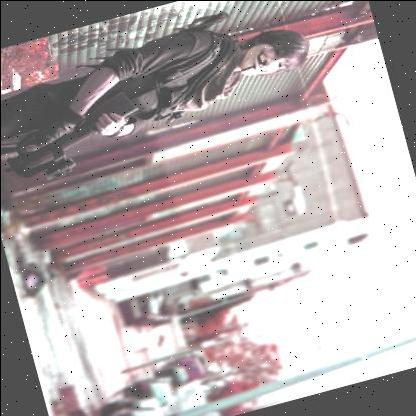rifle: (0, 79, 171, 196)
